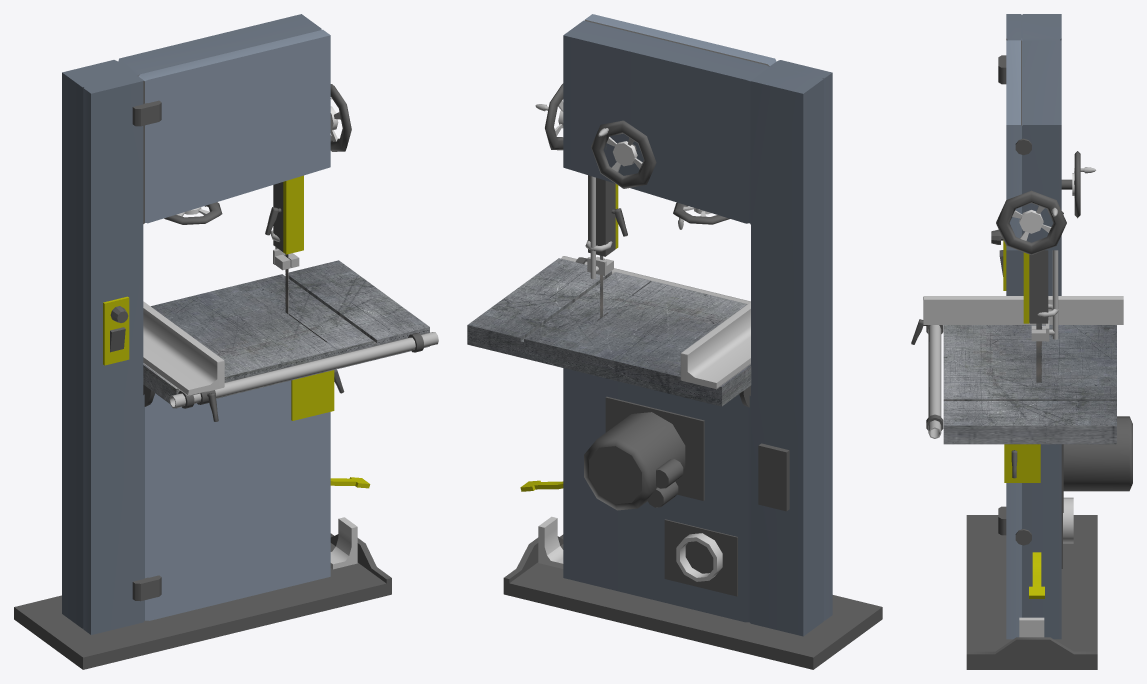
The model's file is Bandsaw.fbx.
3 renders of one model, left to right at view 1: azimuth 30°, elevation 25°; view 2: azimuth 150°, elevation 25°; view 3: azimuth 270°, elevation 25°, orthographic. The views are drawn at different scales.
Parts seen in each view (by area): view 1: Body; view 2: Body, Upper_Guide; view 3: Body, Upper_Guide.
Part boxes in pixels (x1,y1,x2,y2): Body: [14, 14, 438, 669]; Body: [467, 14, 882, 669]; Upper_Guide: [587, 176, 613, 278]; Body: [911, 14, 1132, 669]; Upper_Guide: [1031, 250, 1058, 341].
Size of the model in its own units: 1.42 by 2.25 by 0.8575.
9 materials, 2 textured.
